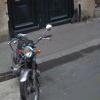Motorcycle: (4, 22, 54, 100)
